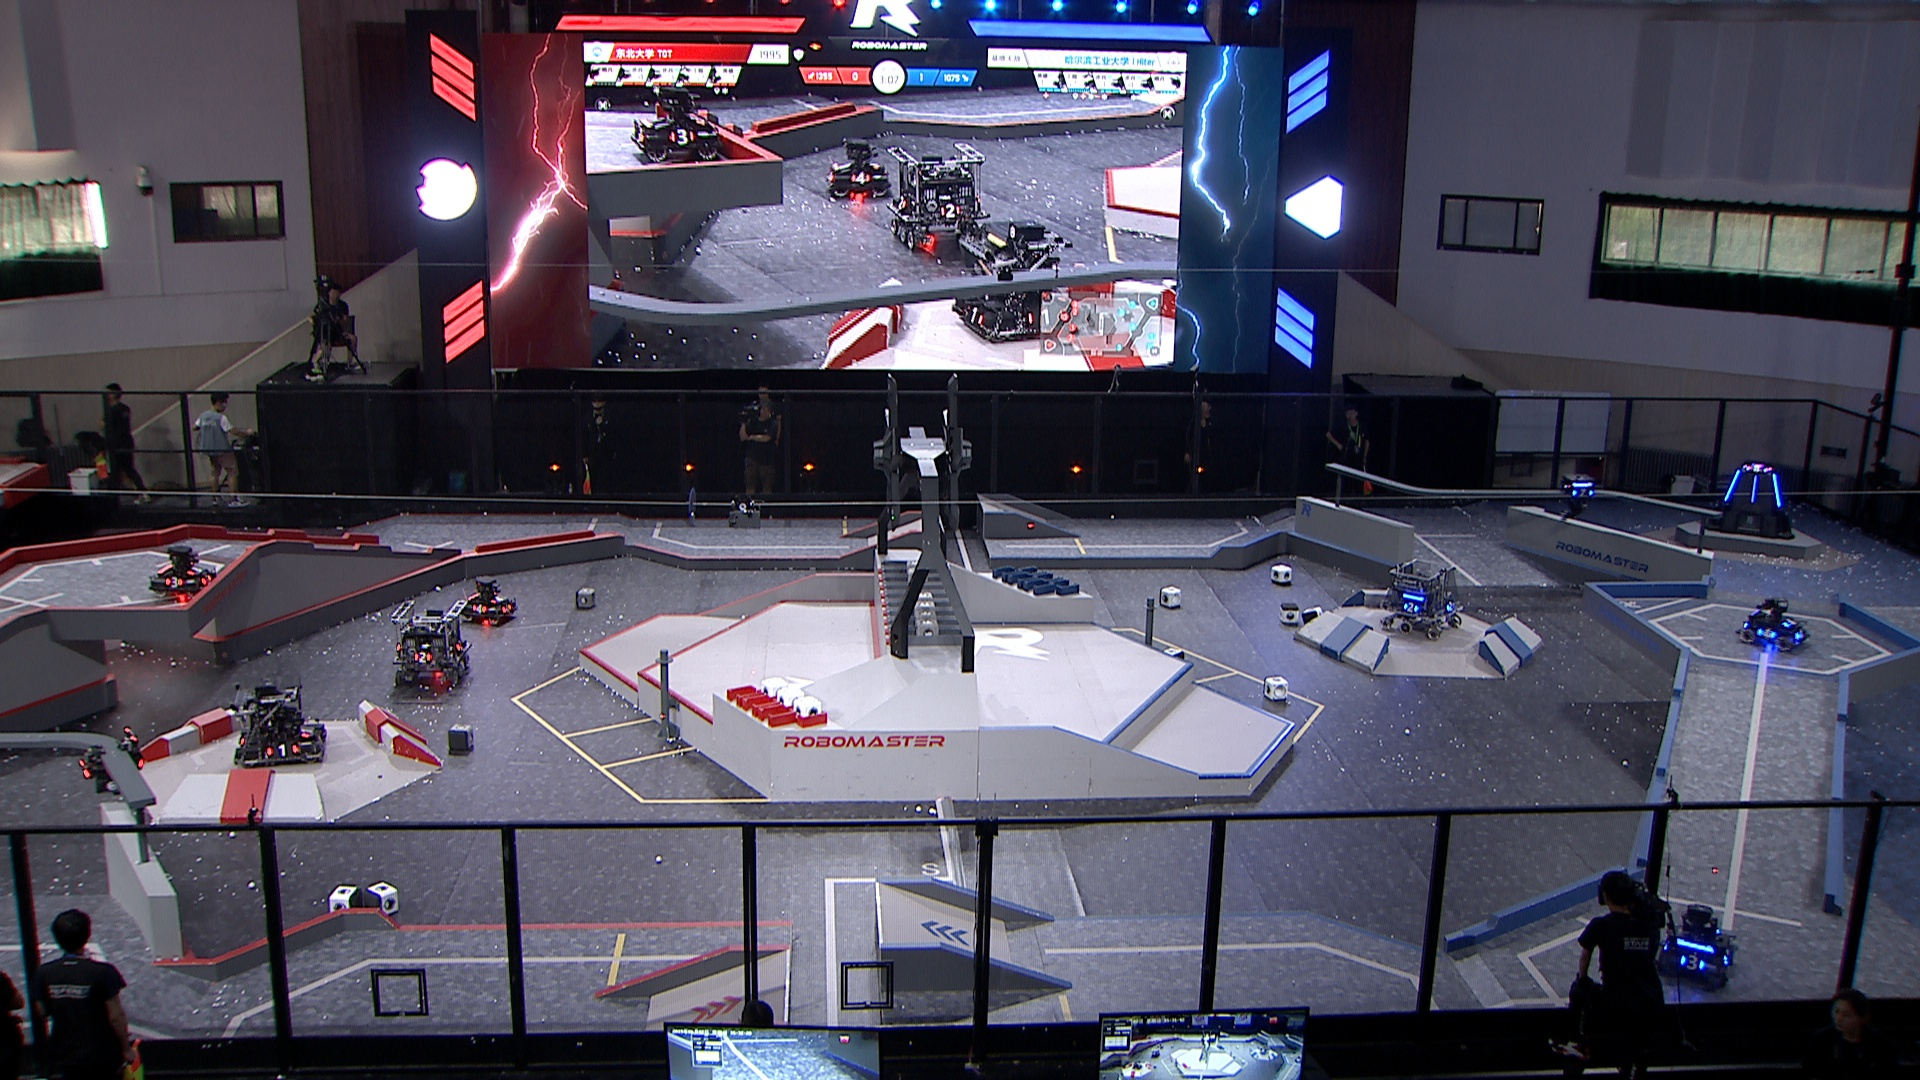armor: (262, 740, 301, 761), (1676, 953, 1709, 975), (1724, 467, 1742, 501), (1768, 473, 1784, 509), (76, 756, 96, 781), (410, 647, 434, 666), (311, 721, 328, 746), (1789, 622, 1808, 645), (1755, 624, 1779, 641), (1720, 944, 1737, 968), (1569, 488, 1596, 502), (186, 560, 204, 580), (196, 571, 216, 589), (1400, 597, 1420, 616), (162, 575, 187, 589), (299, 721, 315, 742), (1749, 472, 1759, 502), (452, 636, 468, 655), (500, 599, 516, 616), (1782, 615, 1797, 632), (471, 603, 489, 616), (1443, 597, 1456, 613)
base: (1705, 462, 1799, 543)
car: (382, 595, 477, 694), (233, 676, 334, 764), (1378, 553, 1465, 640), (1655, 902, 1741, 986), (146, 541, 225, 595), (1737, 595, 1808, 651), (455, 574, 520, 626)
ignore: (951, 222, 1073, 338), (884, 142, 986, 249), (622, 80, 724, 171), (823, 138, 894, 200), (1743, 462, 1774, 475)
watcher: (76, 721, 152, 800), (1561, 472, 1600, 524)
